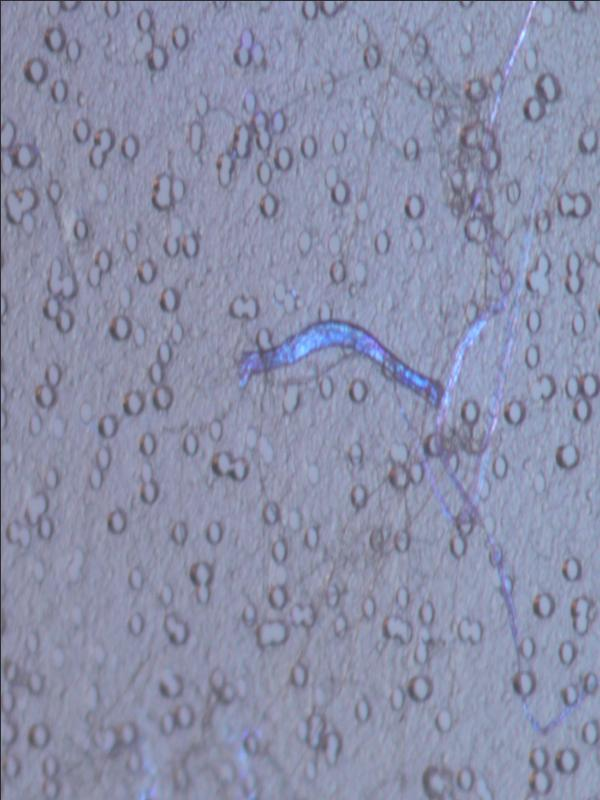microplastic: (2, 2, 599, 799), (236, 318, 444, 411)
